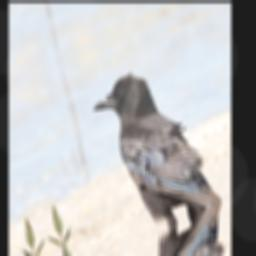Crow: (87, 46, 222, 245)
